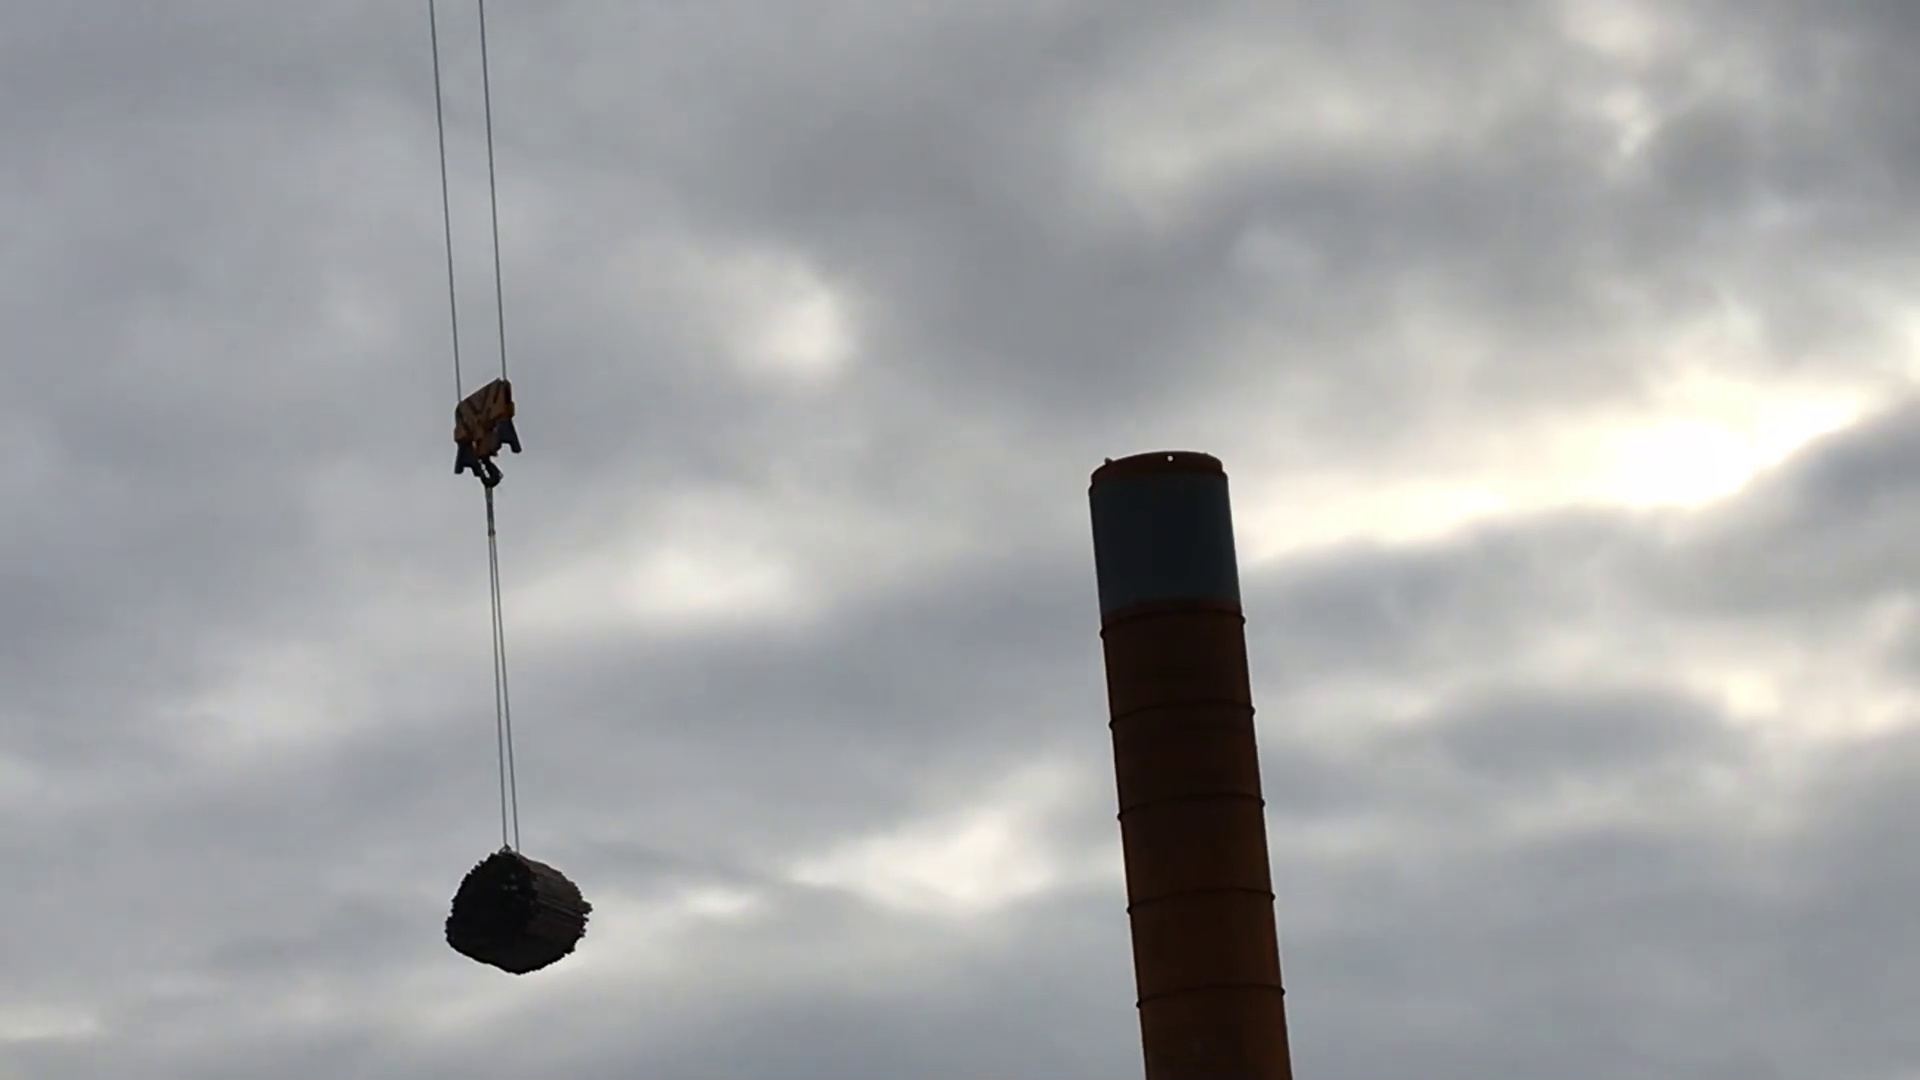hook: (440, 386, 527, 489)
